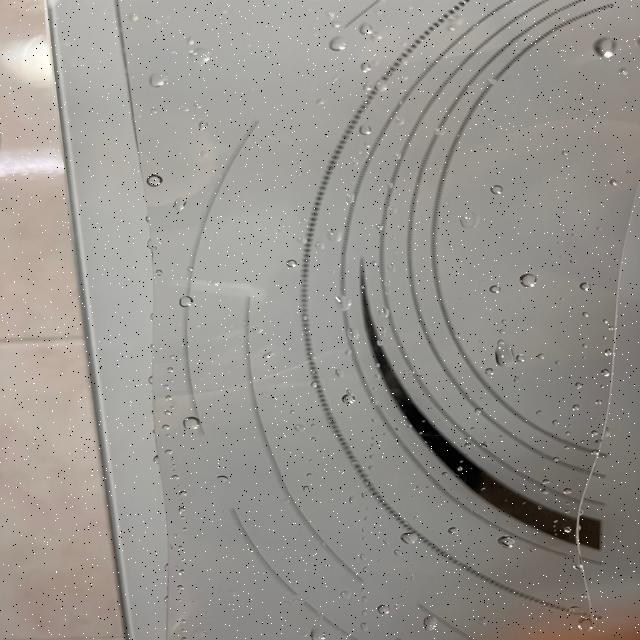raindrop: (513, 266, 545, 297), (489, 341, 523, 369), (580, 37, 622, 59), (331, 384, 365, 410), (134, 162, 167, 187), (165, 192, 199, 215), (324, 286, 354, 310), (388, 527, 422, 547), (322, 35, 352, 55), (490, 535, 518, 556), (484, 180, 510, 202), (193, 47, 226, 64), (355, 111, 378, 135), (420, 606, 442, 628), (189, 409, 205, 438), (181, 285, 199, 310), (284, 245, 299, 274), (575, 278, 602, 294), (146, 73, 170, 89), (304, 627, 332, 640), (377, 598, 399, 614), (359, 59, 371, 79), (357, 21, 383, 30)
